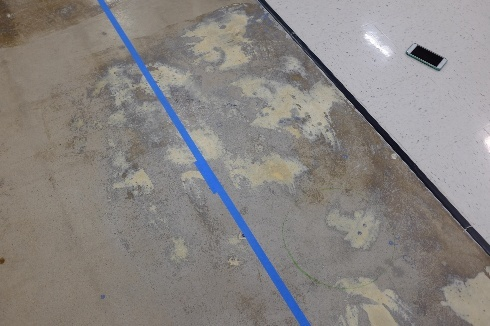phone: (402, 40, 451, 72)
